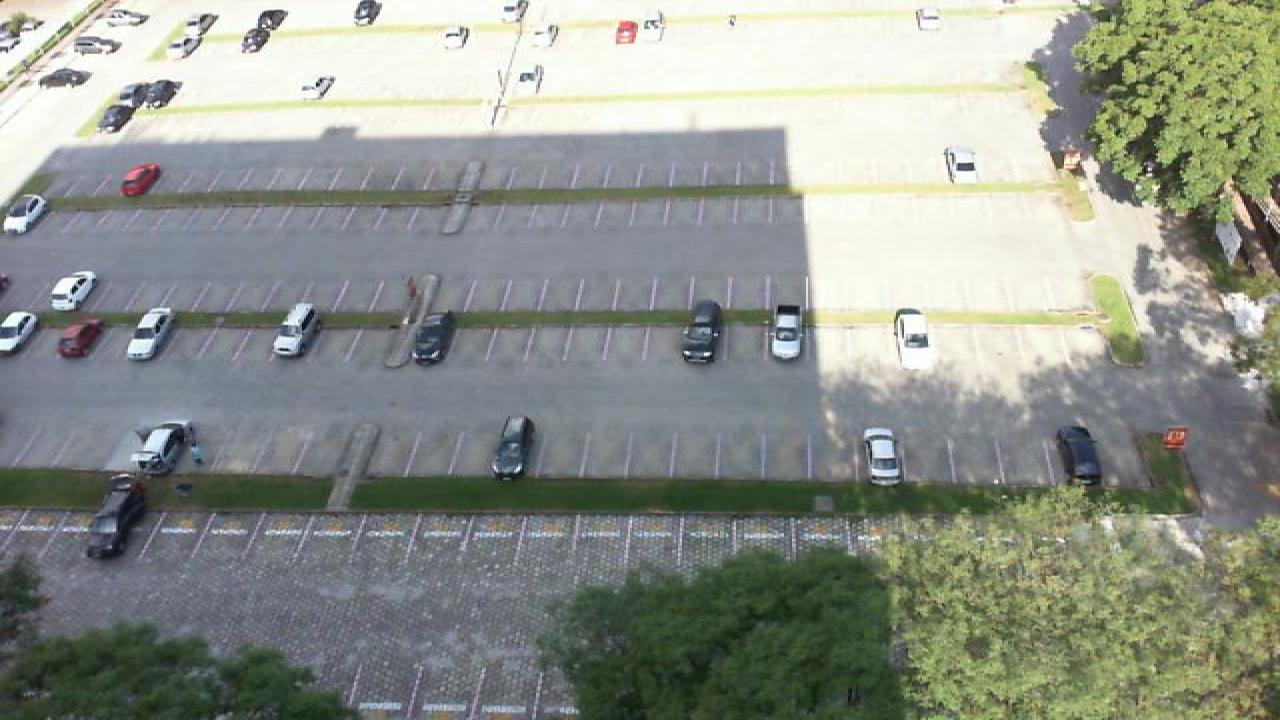Car: (86, 476, 146, 559), (130, 422, 192, 475), (490, 416, 536, 480), (678, 300, 724, 364), (270, 302, 322, 358), (124, 307, 176, 360), (1058, 426, 1102, 487), (894, 307, 936, 370), (862, 426, 906, 485), (408, 312, 456, 366), (768, 303, 808, 360), (56, 316, 104, 359), (0, 192, 48, 234), (48, 270, 98, 310), (0, 310, 40, 354), (944, 146, 982, 187), (118, 163, 162, 197), (96, 100, 136, 134), (144, 78, 184, 112), (36, 67, 90, 89), (508, 64, 544, 96), (118, 81, 156, 110), (74, 35, 122, 56), (180, 11, 220, 35), (104, 10, 152, 29), (252, 7, 288, 32), (300, 75, 336, 100), (170, 32, 204, 58), (640, 9, 666, 42), (354, 0, 384, 27), (240, 27, 270, 53), (914, 6, 944, 32), (530, 25, 560, 48), (442, 26, 470, 49), (616, 19, 638, 45)
